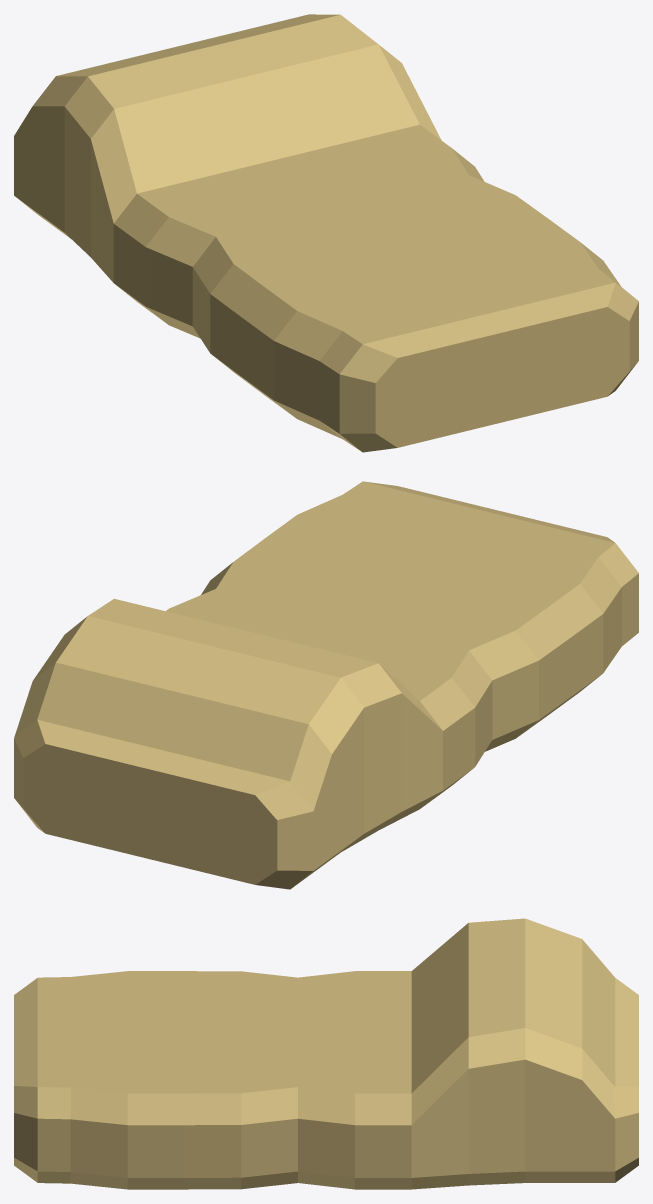
Rendered from tallow_medium_a.glb.
The picture shows the model from 3 angles, top to bottom: view 1: azimuth 30°, elevation 25°; view 2: azimuth 150°, elevation 25°; view 3: azimuth 270°, elevation 25°; orthographic projection. The views are drawn at different scales.
Visible parts, largest first — view 1: tallow_medium_a; view 2: tallow_medium_a; view 3: tallow_medium_a.
Boxes of the visible parts, <box> form: tallow_medium_a: <box>14,14,638,452</box>; tallow_medium_a: <box>14,481,638,889</box>; tallow_medium_a: <box>14,918,638,1189</box>.
Bounding box in the file's own units: 3.4 × 1.73 × 6.3.
